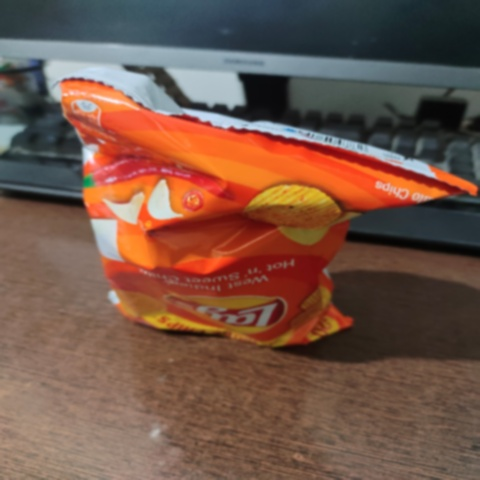lays_orange_pack: (34, 28, 480, 383)
